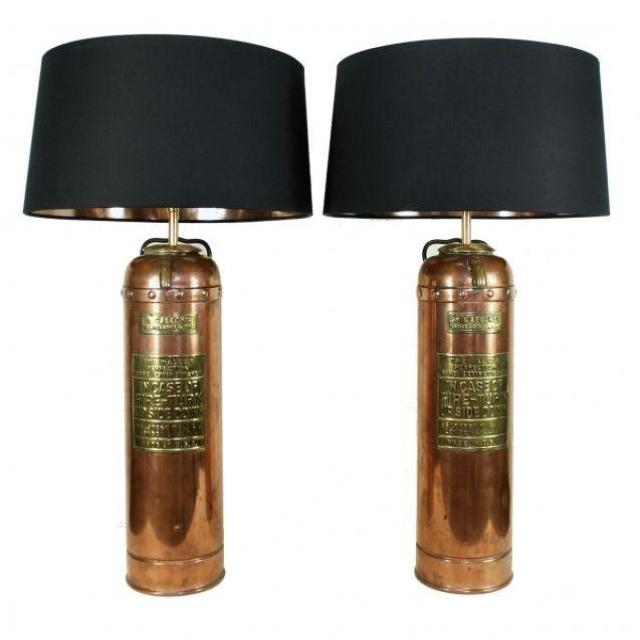fire_extinguisher: (114, 238, 226, 601), (412, 236, 516, 598)
